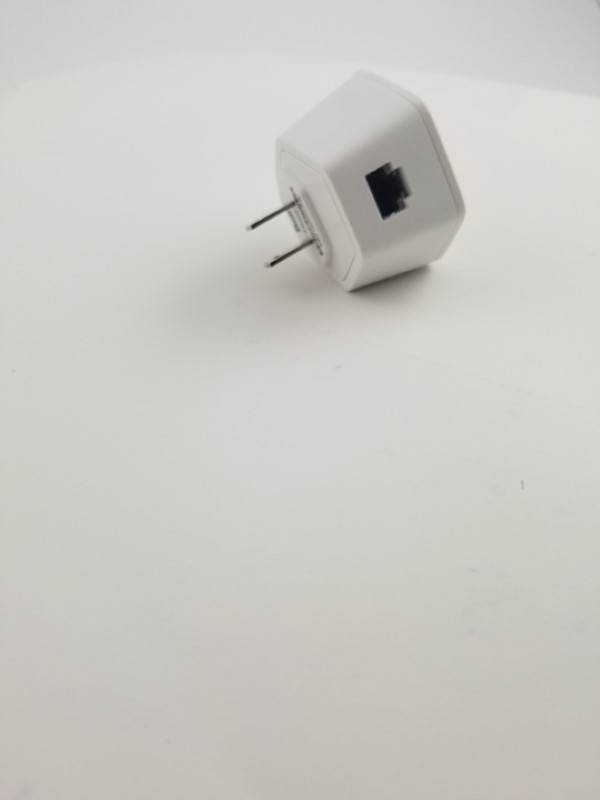pod: (243, 57, 479, 303)
